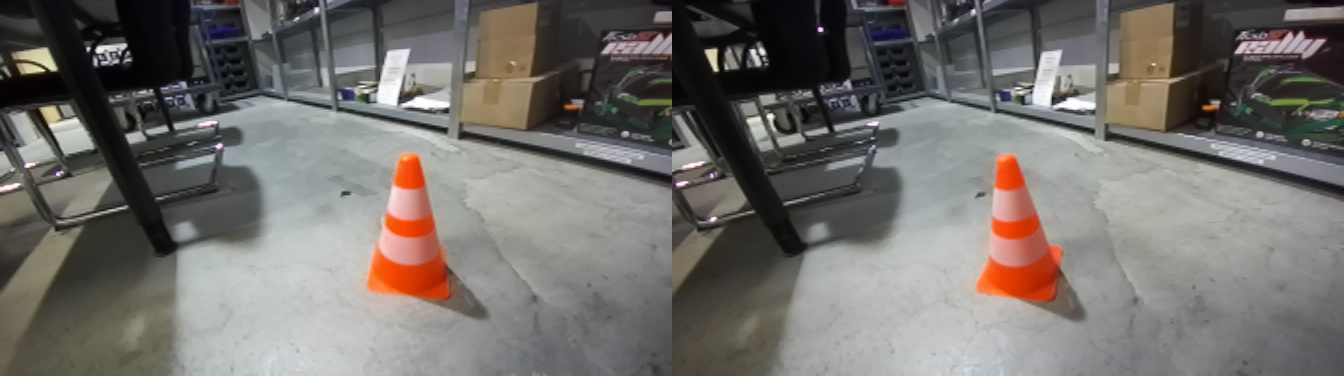cone: (368, 157, 459, 308), (983, 160, 1070, 309)
